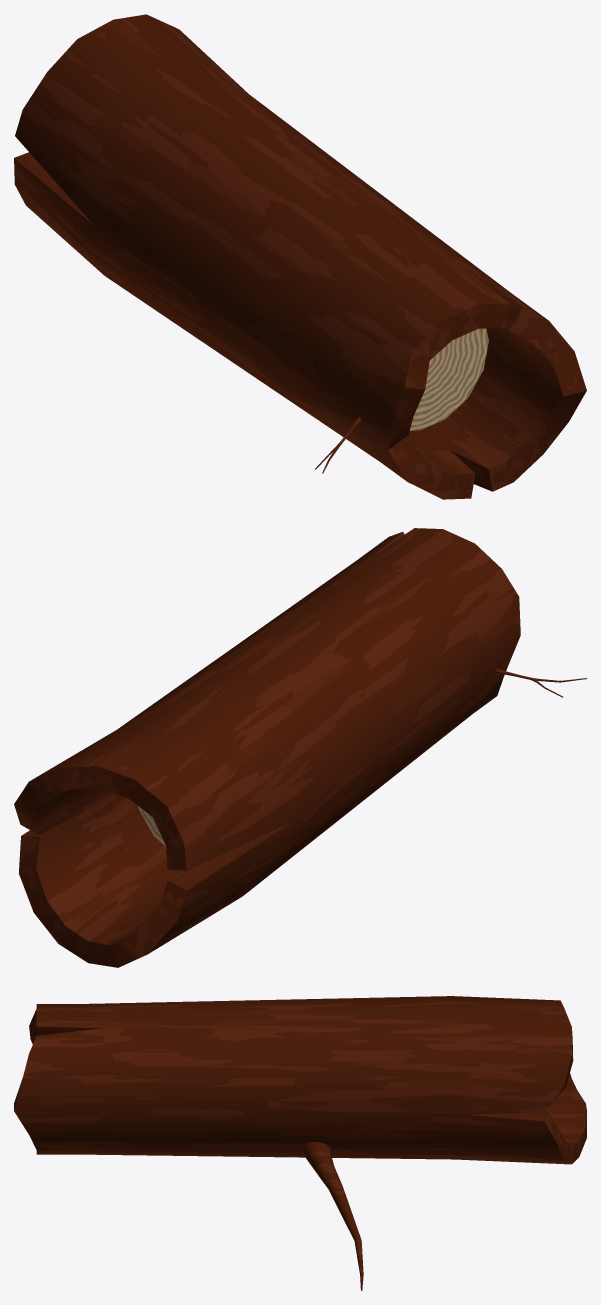
Rendered from tree_log.fbx.
3 views of the same model, one above another, from view 1: azimuth 30°, elevation 25°; view 2: azimuth 150°, elevation 25°; view 3: azimuth 270°, elevation 25° (orthographic). The views are drawn at different scales.
Visible parts, largest first — view 1: tree_log; view 2: tree_log; view 3: tree_log.
Part boxes in pixels (<box>): tree_log: <box>14,14,586,499</box>; tree_log: <box>14,528,586,967</box>; tree_log: <box>14,996,586,1290</box>.
Bounding box in the file's own units: 386 × 319 × 760.
